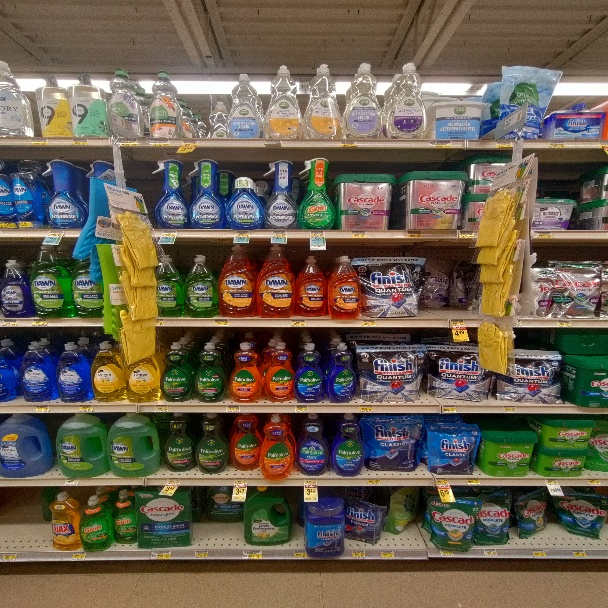All PRICE TAGS: (243, 550, 261, 559), (152, 550, 169, 559), (348, 550, 364, 558), (290, 318, 306, 326), (193, 550, 208, 558), (380, 550, 394, 558), (293, 551, 308, 558), (234, 231, 249, 238), (271, 231, 286, 238), (310, 231, 325, 238), (353, 231, 368, 238), (214, 318, 229, 325), (406, 231, 420, 238), (226, 405, 240, 412), (295, 406, 309, 413), (304, 479, 317, 486), (234, 478, 247, 485), (182, 140, 197, 146), (161, 231, 176, 237), (151, 318, 166, 324), (166, 478, 180, 484)
